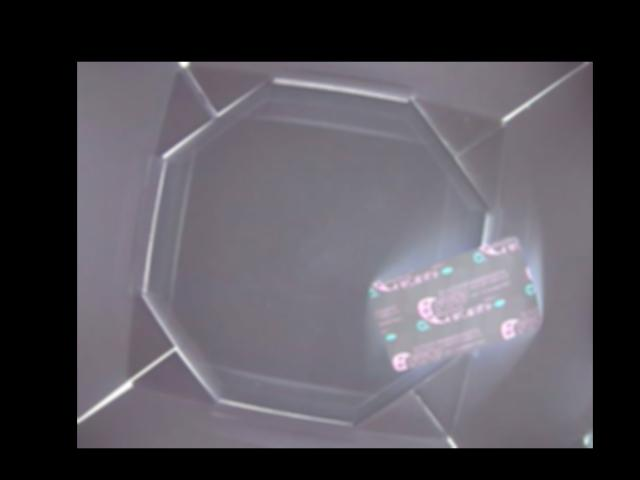Medicine: (368, 237, 541, 371)
